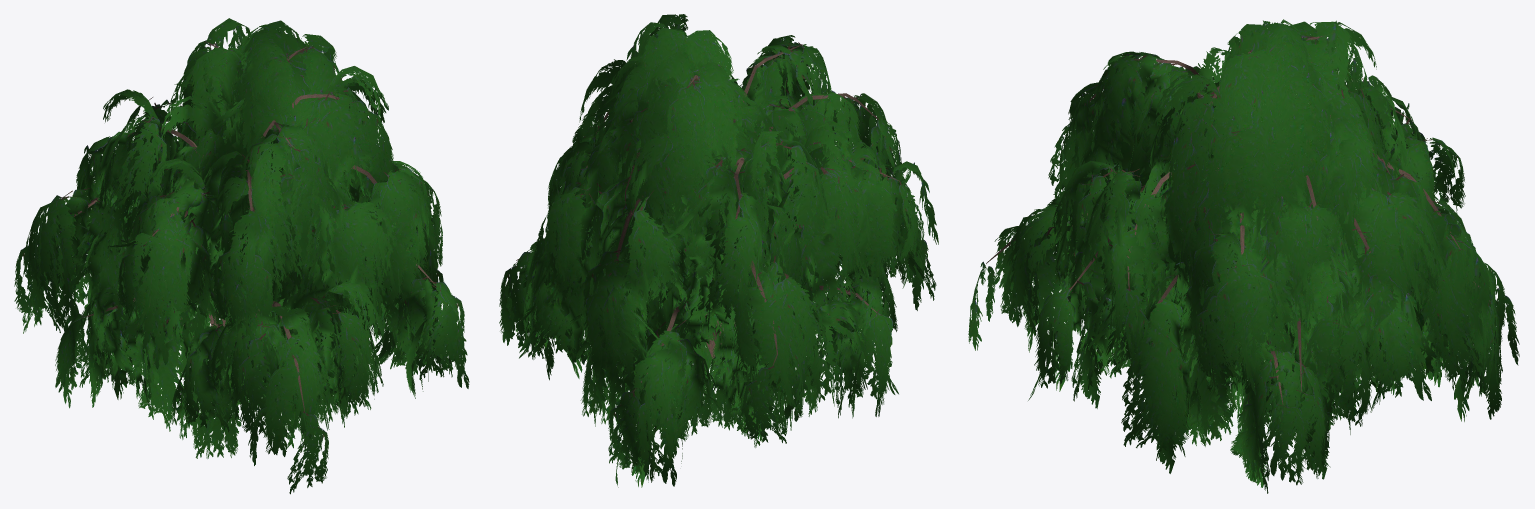
The picture shows the model from 3 angles, left to right: view 1: azimuth 30°, elevation 25°; view 2: azimuth 150°, elevation 25°; view 3: azimuth 270°, elevation 25°; orthographic projection. The views are drawn at different scales.
Parts seen in each view (by area): view 1: SM_MagicTree_01_Canopy_LOD0; view 2: SM_MagicTree_01_Canopy_LOD0; view 3: SM_MagicTree_01_Canopy_LOD0.
Boxes of the visible parts, x1,y1,x2,y2 form: SM_MagicTree_01_Canopy_LOD0: (14, 18, 469, 494); SM_MagicTree_01_Canopy_LOD0: (499, 14, 938, 487); SM_MagicTree_01_Canopy_LOD0: (968, 19, 1519, 493).
Size of the model in its own units: 14.27 by 14.07 by 16.11.
Materials: 1 (1 with a texture image).
